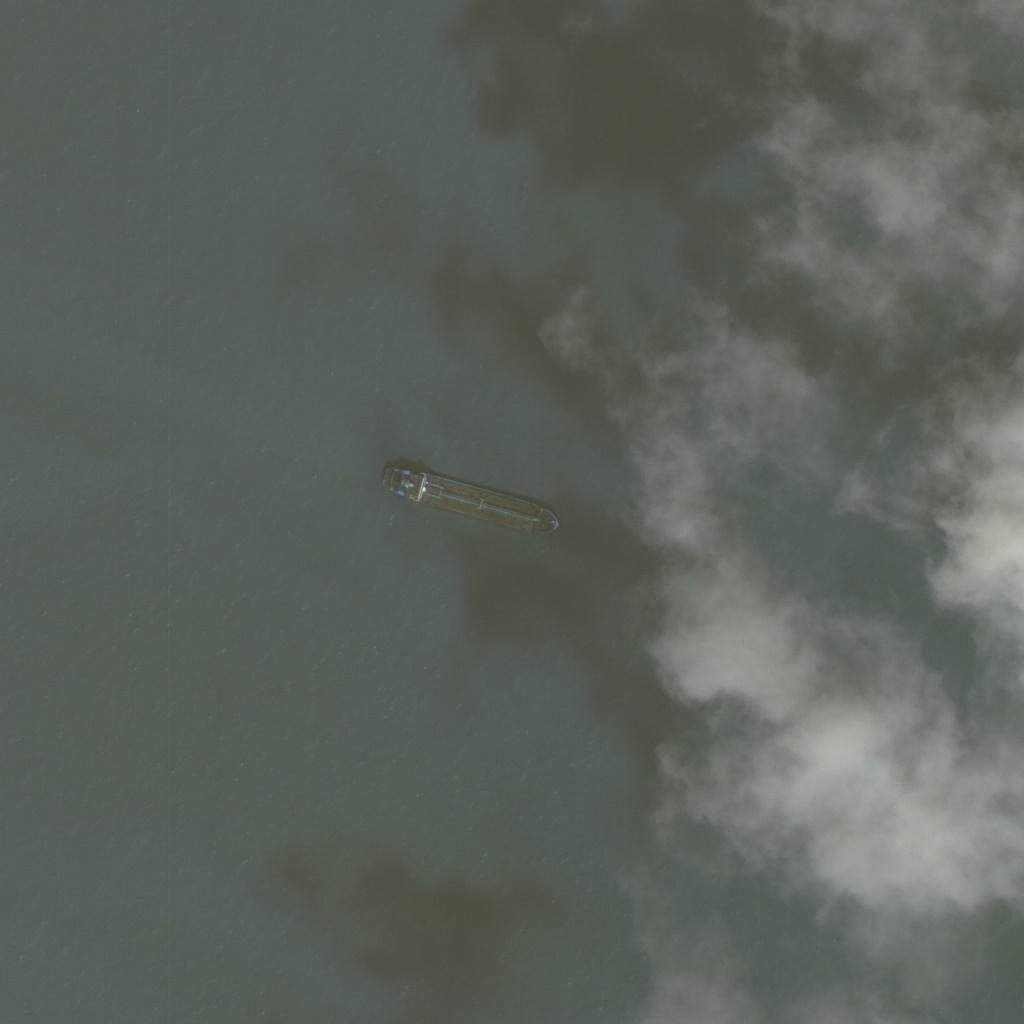ship: (383, 459, 571, 541)
